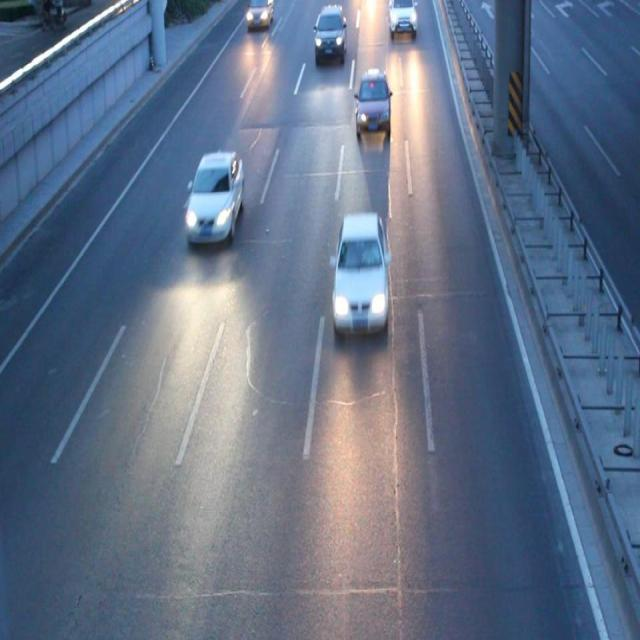car: (330, 214, 390, 334), (185, 151, 244, 242), (354, 70, 392, 137), (313, 1, 346, 61), (388, 1, 417, 38), (246, 1, 272, 25)
